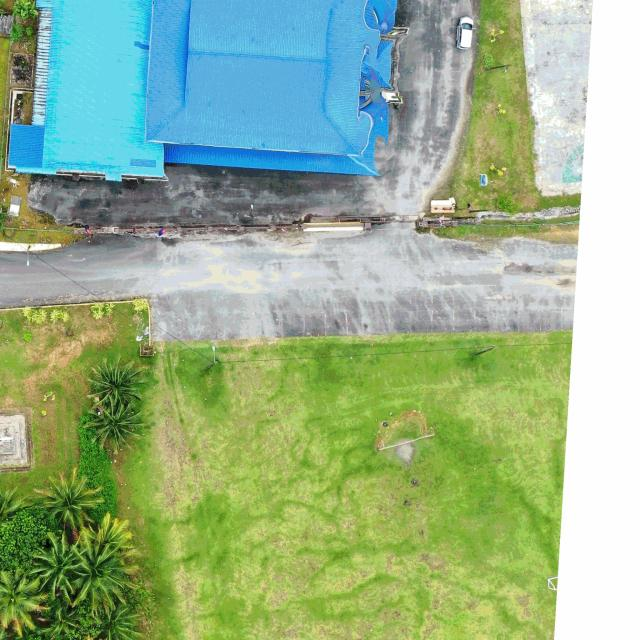Tree: (69, 514, 142, 618), (33, 467, 104, 533), (0, 504, 62, 572), (28, 532, 88, 600), (82, 354, 150, 409), (0, 569, 49, 638), (87, 398, 147, 454), (88, 600, 145, 640), (495, 192, 522, 215), (88, 301, 115, 321)
